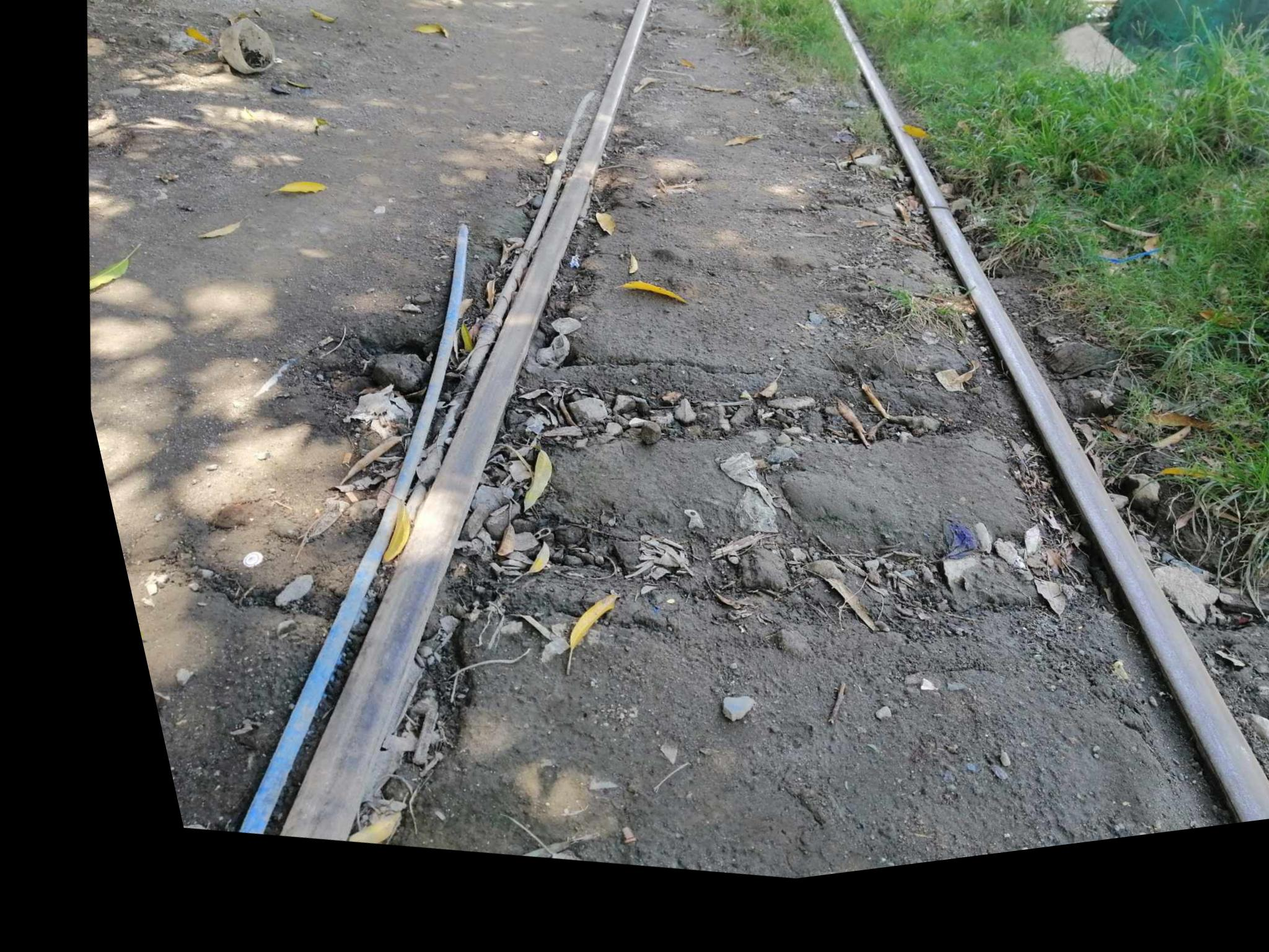person: (878, 196, 969, 270)
